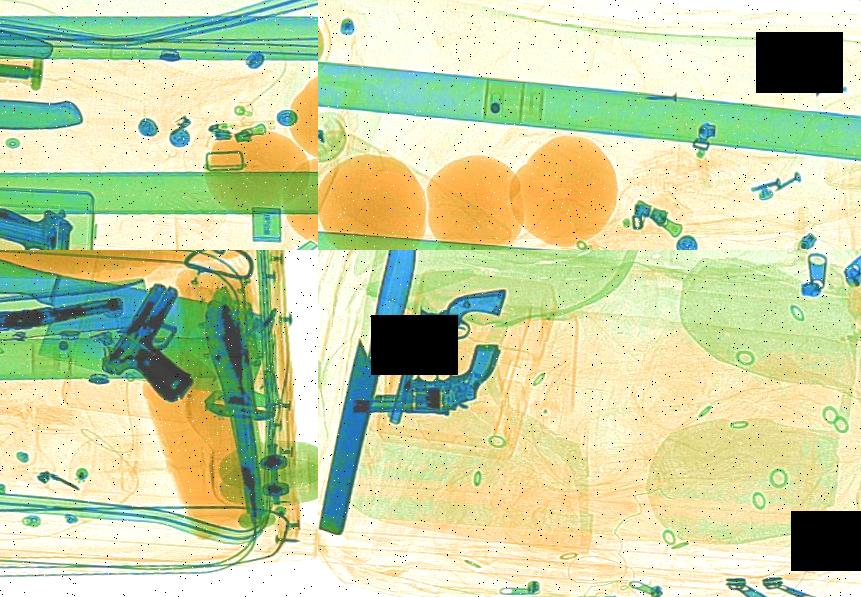Gun: (86, 274, 240, 407), (383, 272, 507, 437), (340, 330, 512, 426), (0, 286, 127, 338), (0, 202, 76, 250)
Knife: (0, 250, 289, 404), (318, 250, 424, 537), (184, 282, 286, 518), (0, 48, 87, 133)
